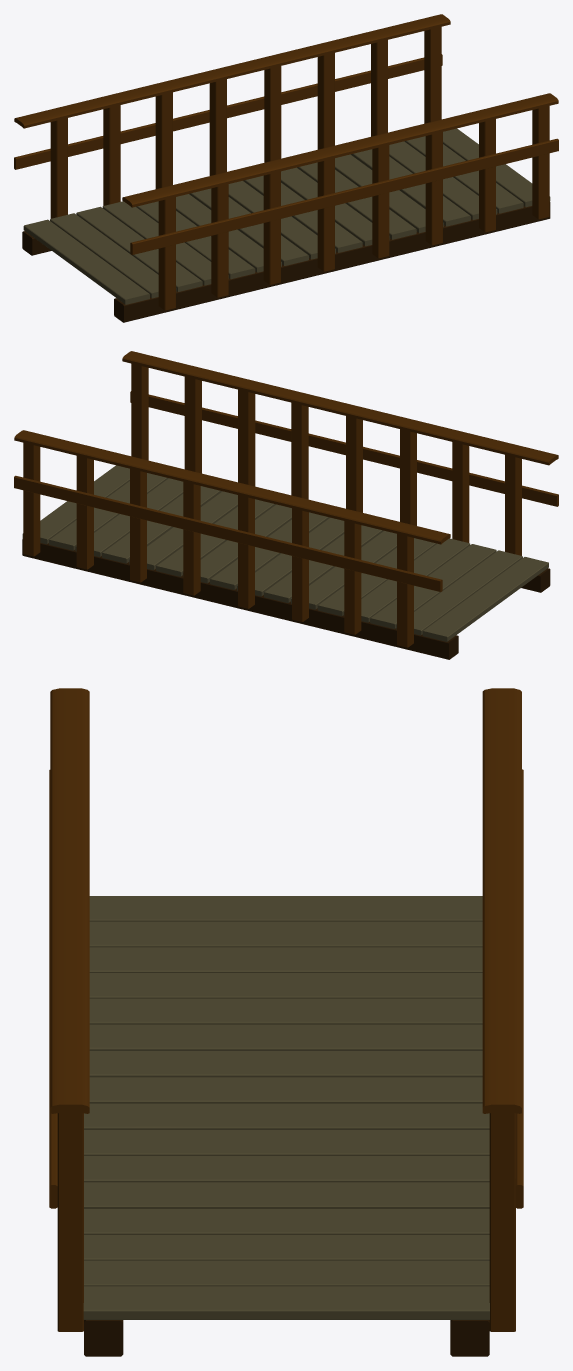
Rendered from M_Sem04_Environment_WoodenBridge_LODs_SBoewing.fbx.
The picture shows the model from 3 angles, top to bottom: view 1: azimuth 30°, elevation 25°; view 2: azimuth 150°, elevation 25°; view 3: azimuth 270°, elevation 25°; orthographic projection. The views are drawn at different scales.
Visible parts, largest first — view 1: WoodenBridge_LOD0; view 2: WoodenBridge_LOD0; view 3: WoodenBridge_LOD0.
Boxes of the visible parts, box(x1,y1,x2,y2) form: WoodenBridge_LOD0: box(14, 14, 558, 322); WoodenBridge_LOD0: box(14, 351, 558, 659); WoodenBridge_LOD0: box(49, 688, 523, 1356).
Size of what is drawn, in the model's own units: 376 by 106 by 181.
